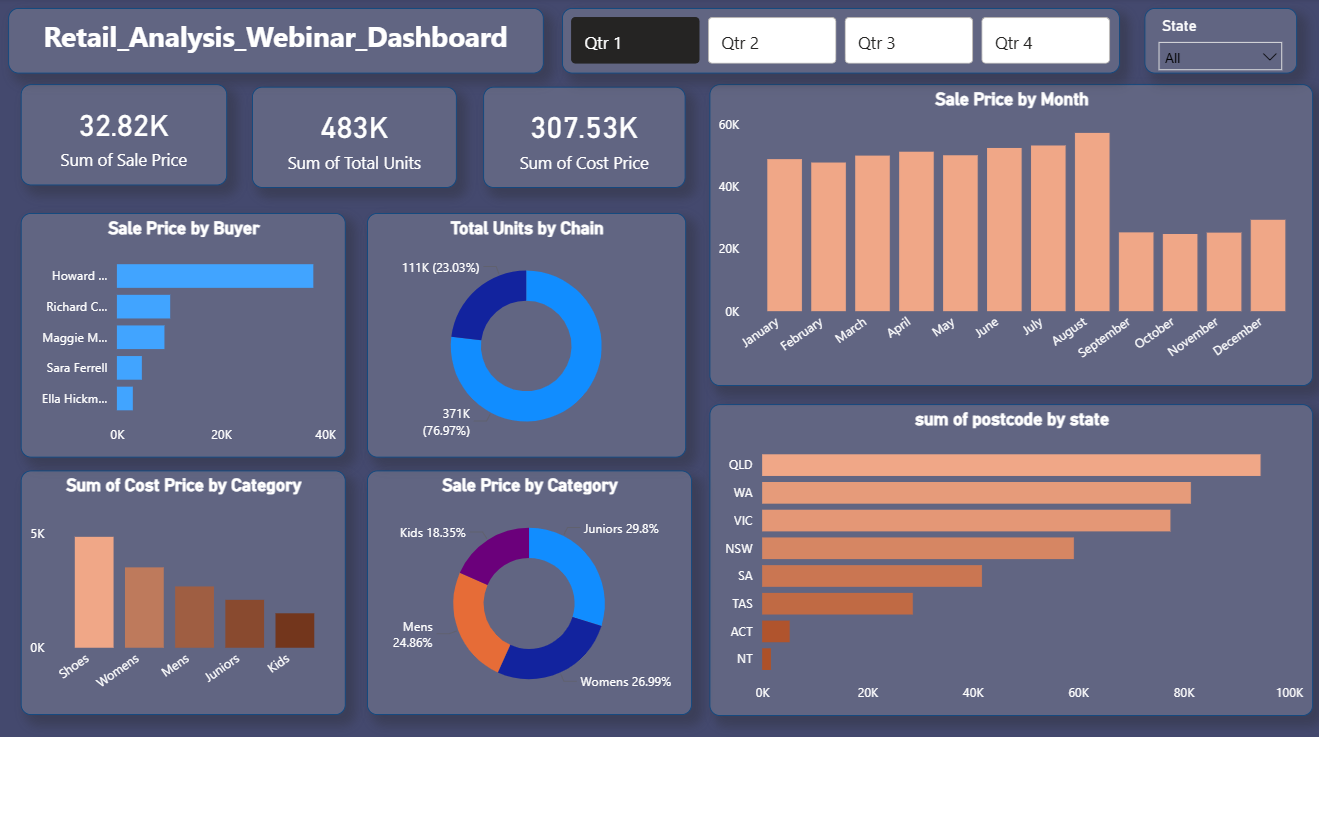

The page's visual inventory and layout, read from the dashboard file:
{"tool":"powerbi","page":{"name":"Page 1","canvas":[1280,720],"ordinal":0},"visuals":[{"type":"textbox","box":[11,9.6,516.5,63.2],"z":0},{"type":"columnChart","title":" Sale Price by Month","fields":{"Y":["Sum(Sales.Sale Price)"],"Category":["Sales.Date.Variation.Date Hierarchy.Month"]},"box":[688.2,83.8,582.4,291.2],"z":1000},{"type":"clusteredBarChart","title":" sum of postcode by state","fields":{"Y":["Sum(Regions.Postcode)"],"Category":["Regions.State"]},"box":[688.2,391.5,582.4,300.8],"z":2000},{"type":"card","fields":{"Values":["Sum(Aug Data.Sale Price)"]},"box":[23.4,83.8,199.2,97.5],"z":3000},{"type":"card","fields":{"Values":["Sum(Aug Data.Total Units)"]},"box":[245.9,85.2,197.8,97.5],"z":4000},{"type":"card","fields":{"Values":["Sum(Sales.Cost Price)"]},"box":[469.8,85.2,195.1,97.5],"z":5000},{"type":"clusteredBarChart","title":" Sale Price by Buyer","fields":{"Category":["Buyers.Buyer"],"Y":["Sum(Fact Table.Sale Price)"]},"box":[23.4,207.4,313.2,236.3],"z":6000},{"type":"donutChart","title":"Total Units by Chain","fields":{"Category":["Aug Data.Chain"],"Y":["Sum(Aug Data.Total Units)"]},"box":[357.2,207.4,307.7,236.3],"z":7000},{"type":"clusteredColumnChart","fields":{"Y":["Sum(Aug Data.Cost Price)"],"Category":["Aug Data.Category"]},"box":[23.4,456.1,313.2,236.3],"z":8000},{"type":"donutChart","title":" Sale Price by Category","fields":{"Category":["Fact Table.Category"],"Y":["Sum(Fact Table.Sale Price)"]},"box":[357.2,456.1,313.2,236.3],"z":9000},{"type":"advancedSlicerVisual","fields":{"Values":["Fact Table.Date.Variation.Date Hierarchy.Quarter"]},"box":[545.4,9.6,538.5,63.2],"z":10000},{"type":"slicer","fields":{"Values":["Regions.State"]},"box":[1107.2,9.6,147,63.2],"z":11000}]}

Visuals, with their boxes on the page's 1280x720 design canvas (x1, y1, x2, y2). These are canvas units, not pixel positions in the 1319x823 screenshot, which may show the page scaled, cropped or inside an application window:
textbox: select_region(11, 10, 528, 73)
" Sale Price by Month" columnChart: select_region(688, 84, 1271, 375)
" sum of postcode by state" clusteredBarChart: select_region(688, 392, 1271, 692)
card - Sum(Aug Data.Sale Price): select_region(23, 84, 223, 181)
card - Sum(Aug Data.Total Units): select_region(246, 85, 444, 183)
card - Sum(Sales.Cost Price): select_region(470, 85, 665, 183)
" Sale Price by Buyer" clusteredBarChart: select_region(23, 207, 337, 444)
"Total Units by Chain" donutChart: select_region(357, 207, 665, 444)
clusteredColumnChart - Sum(Aug Data.Cost Price) x Aug Data.Category: select_region(23, 456, 337, 692)
" Sale Price by Category" donutChart: select_region(357, 456, 670, 692)
advancedSlicerVisual - Fact Table.Date.Variation.Date Hierarchy.Quarter: select_region(545, 10, 1084, 73)
slicer - Regions.State: select_region(1107, 10, 1254, 73)
